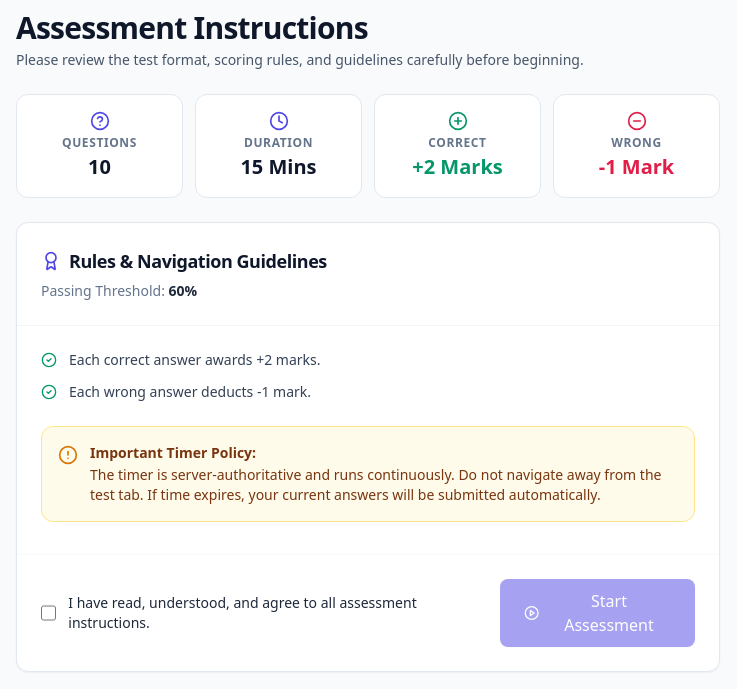
it: Candidate Assessment UI Flow › Instructions Page › renders test rules and requires agreement checkbox before enabling Start Assessment
Expected: the text "10" is shown, [88,153,111,180]
Expected: the text "15 Mins" is shown, [240,153,316,180]
Click the checkbox.
click(49, 613)  # box [41,605,56,621]
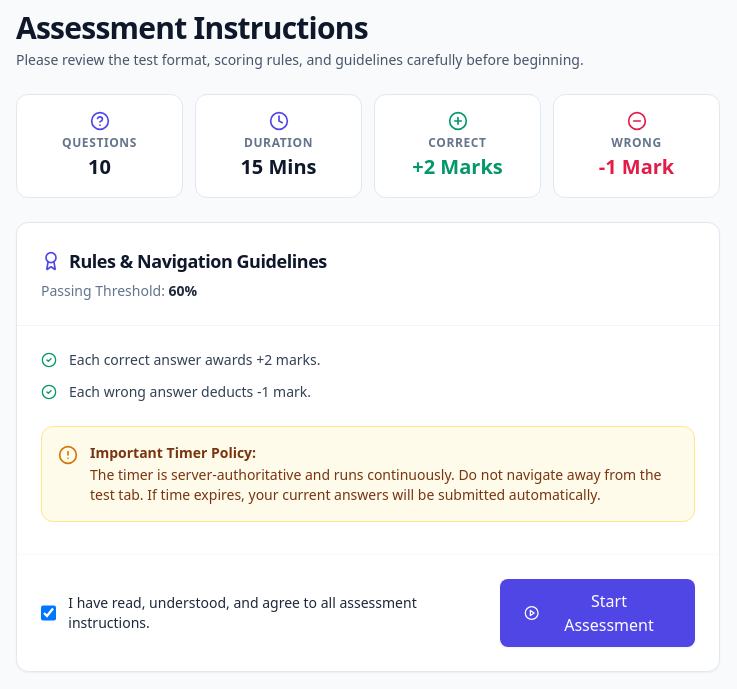
Expected: the button "Start Assessment" is enabled, [500,579,695,647]
